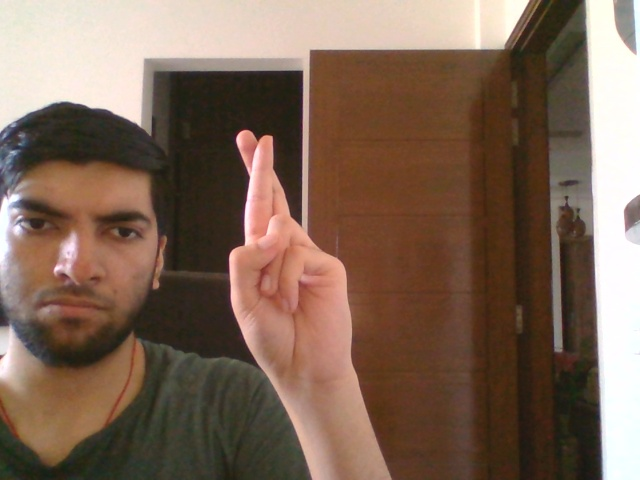LetterR: (227, 128, 358, 388)
